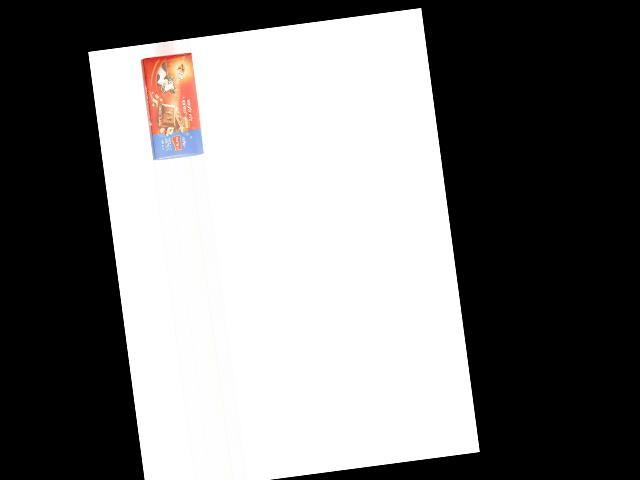chocolate: (140, 51, 204, 160)
